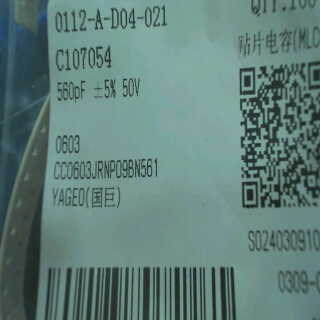560pF: (54, 76, 90, 103)
